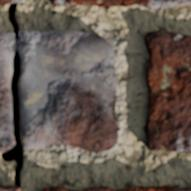brick: (145, 31, 190, 152), (51, 0, 190, 9), (145, 186, 190, 190), (86, 187, 140, 190), (0, 0, 24, 4), (44, 187, 72, 190), (0, 186, 19, 190)
broken_brick: (19, 30, 118, 153), (0, 32, 13, 151)
crack: (0, 2, 26, 188), (138, 185, 145, 190)
